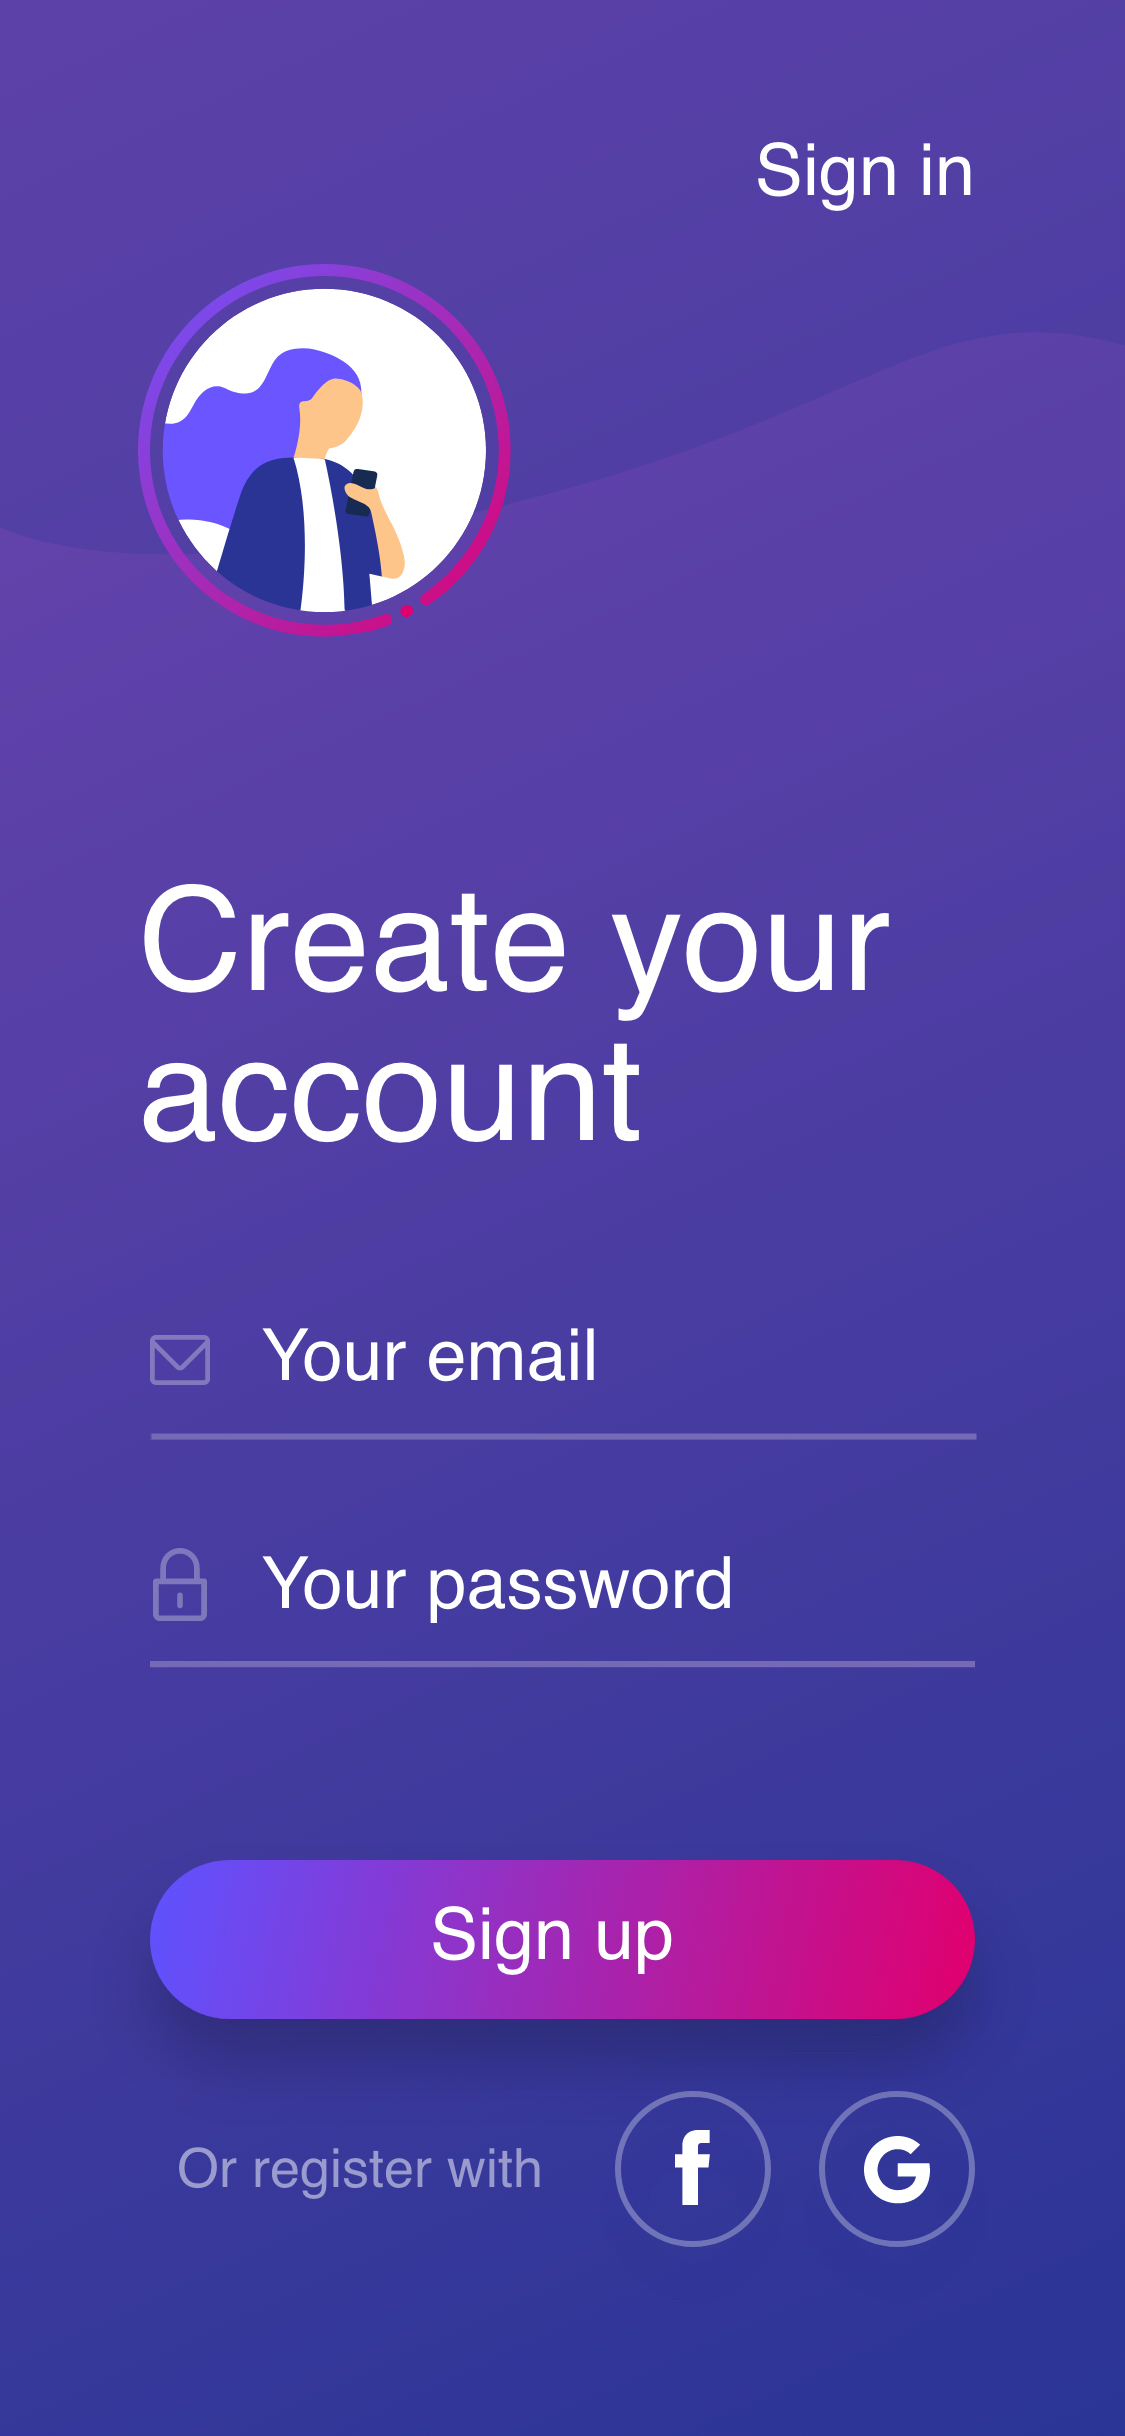EditText: (151, 1547, 976, 1669), (151, 1327, 977, 1442)
Icon: (614, 2090, 772, 2248), (817, 2090, 976, 2248), (152, 1547, 210, 1622), (151, 1335, 211, 1386)
Image: (138, 264, 513, 639)
Text: (143, 882, 890, 1147), (263, 1557, 730, 1625), (179, 2145, 542, 2201), (263, 1327, 597, 1383), (757, 141, 973, 213)
TextButton: (151, 1860, 976, 2020)
